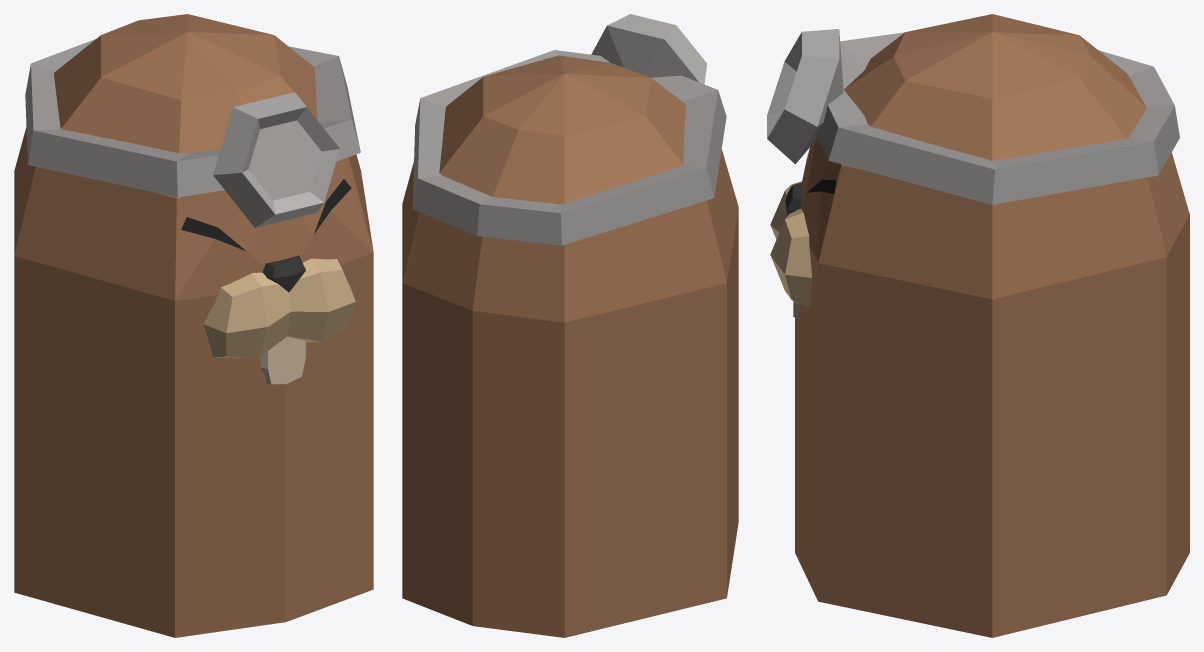
Rendered from SM_Prop_Arcade_Machine_Mole_01.obj.
3 renders of one model, left to right at view 1: azimuth 30°, elevation 25°; view 2: azimuth 150°, elevation 25°; view 3: azimuth 270°, elevation 25°, orthographic. The views are drawn at different scales.
Parts seen in each view (by area): view 1: SM_Prop_Arcade_Machine_Mole_01_0; view 2: SM_Prop_Arcade_Machine_Mole_01_0; view 3: SM_Prop_Arcade_Machine_Mole_01_0.
Part boxes in pixels (bbox=[...]): SM_Prop_Arcade_Machine_Mole_01_0: bbox=[14, 14, 373, 637]; SM_Prop_Arcade_Machine_Mole_01_0: bbox=[402, 14, 738, 637]; SM_Prop_Arcade_Machine_Mole_01_0: bbox=[767, 14, 1189, 637].
Size of the model in its own units: 0.138 by 0.1971 by 0.145.
1 material, 1 textured.
